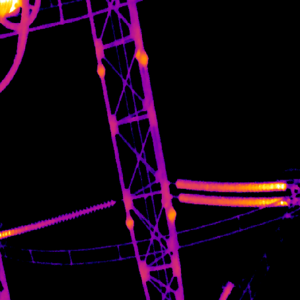insulator: (0, 198, 115, 237), (173, 176, 289, 209)
